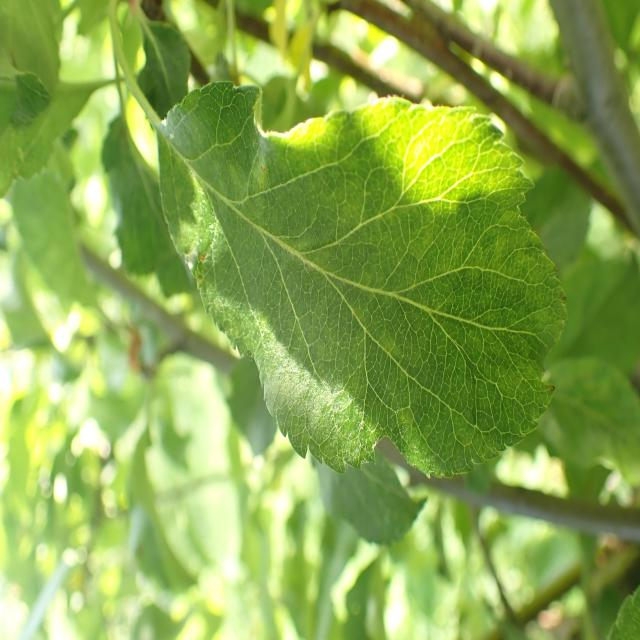scab: (195, 113, 522, 430)
